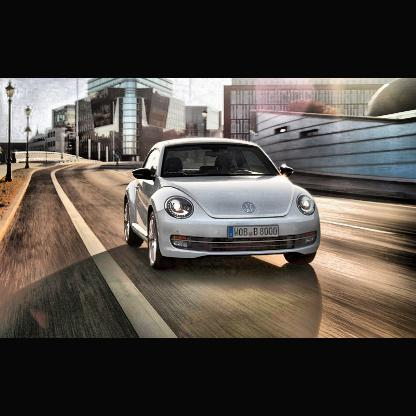Volkswagen Beetle Hatchback 2012: (124, 138, 324, 273)
